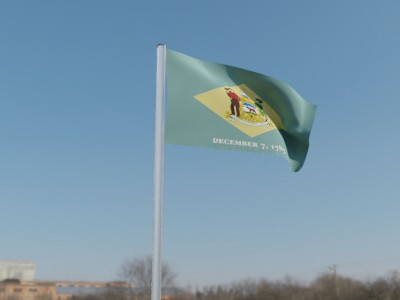Delaware flag: (165, 48, 319, 172)
